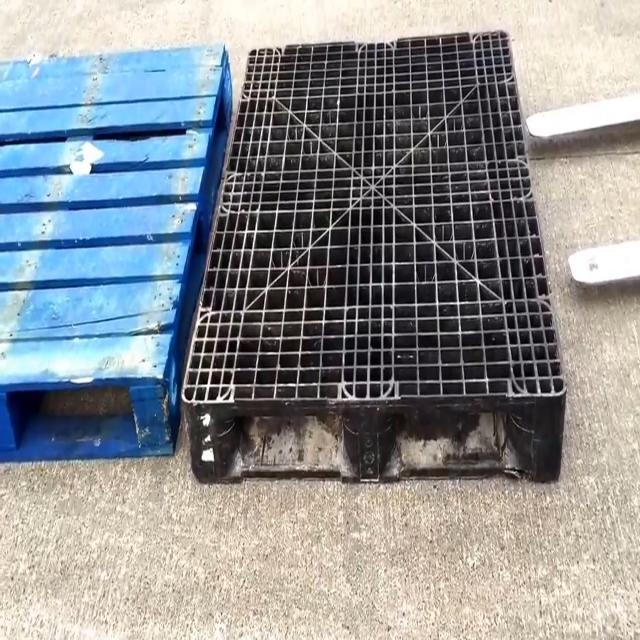Palette: (179, 26, 570, 490), (0, 41, 238, 466)
